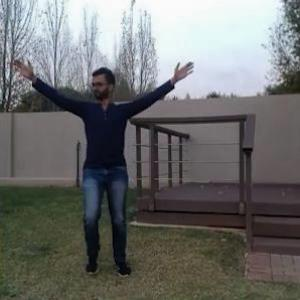takeoff: (6, 54, 205, 289)
